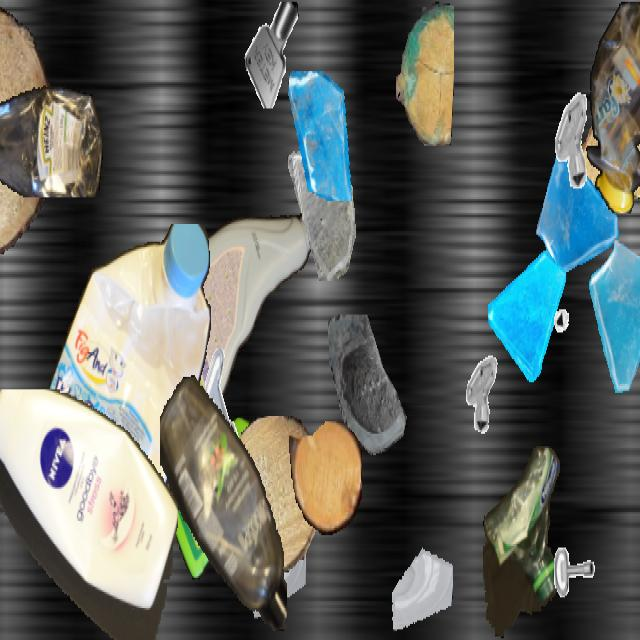glass: (325, 314, 419, 482), (535, 135, 623, 292), (488, 244, 566, 382), (285, 149, 359, 281), (583, 236, 640, 400), (285, 71, 357, 199), (47, 354, 109, 464), (391, 526, 453, 636), (249, 517, 305, 617)
metal: (193, 345, 255, 455), (243, 2, 303, 108), (541, 89, 599, 192), (548, 539, 604, 638), (455, 348, 503, 434), (551, 277, 589, 345)
plastic: (28, 224, 214, 590), (0, 390, 178, 638), (140, 203, 314, 430), (160, 372, 286, 638), (166, 416, 276, 580), (483, 443, 561, 638), (0, 76, 103, 198), (585, 2, 640, 212)
wood: (223, 416, 321, 572), (0, 2, 50, 254), (579, 62, 640, 204), (396, 2, 454, 144), (289, 421, 361, 535)
